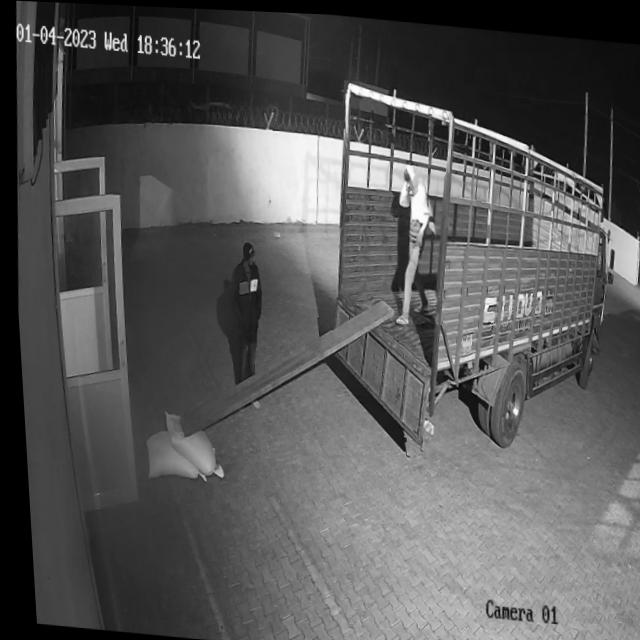sack: (155, 407, 221, 475), (138, 426, 202, 479)
